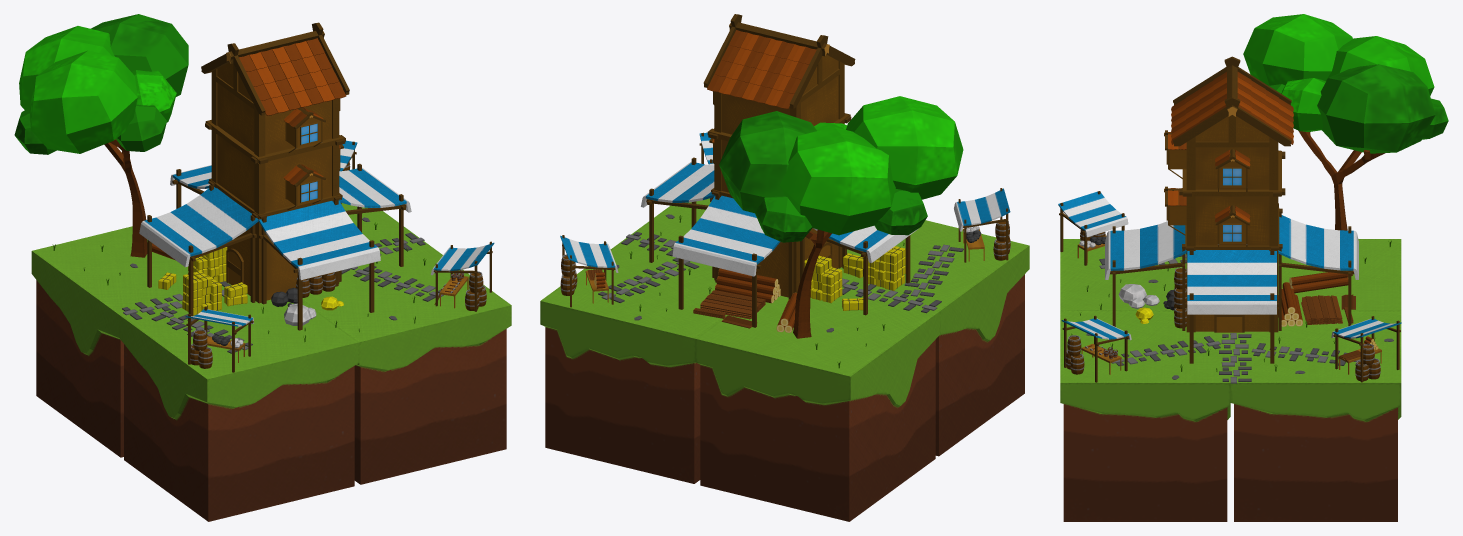
The model's file is Concepts_23.fbx.
3 views of the same model, side by side, from view 1: azimuth 30°, elevation 25°; view 2: azimuth 150°, elevation 25°; view 3: azimuth 270°, elevation 25° (orthographic). The views are drawn at different scales.
Visible parts, largest first — view 1: Cube.202, Cube.001, Cube.186, Cube.201, Cube.204, Cube.200, Cube.187, Cube.188, Cube.190, Cube.203; view 2: Cube.204, Cube.203, Cube.201, Cube.001, Cube.202, Cube.187, Cube.200, Cube.190, Cube.189, Cube.186, Cube.198, Cube.195; view 3: Cube.001, Cube.186, Cube.203, Cube.201, Cube.202, Cube.204, Cube.187, Cube.190, Cube.188, Cube.189, Cube.195, Cube.199 (+2 smaller).
Boxes of the visible parts, x1=… form: Cube.202: x1=119, y1=289, x2=359, y2=521; Cube.001: x1=139, y1=22, x2=411, y2=330; Cube.186: x1=302, y1=241, x2=511, y2=484; Cube.201: x1=14, y1=14, x2=188, y2=257; Cube.204: x1=31, y1=226, x2=231, y2=457; Cube.200: x1=158, y1=247, x2=247, y2=315; Cube.187: x1=122, y1=232, x2=443, y2=353; Cube.188: x1=430, y1=241, x2=494, y2=311; Cube.190: x1=185, y1=306, x2=253, y2=372; Cube.203: x1=341, y1=203, x2=419, y2=251; Cube.204: x1=695, y1=287, x2=939, y2=521; Cube.203: x1=540, y1=238, x2=727, y2=483; Cube.201: x1=719, y1=96, x2=963, y2=338; Cube.001: x1=641, y1=14, x2=918, y2=327; Cube.202: x1=838, y1=220, x2=1029, y2=456; Cube.187: x1=598, y1=232, x2=963, y2=313; Cube.200: x1=804, y1=246, x2=905, y2=310; Cube.190: x1=954, y1=188, x2=1010, y2=262; Cube.189: x1=560, y1=235, x2=618, y2=307; Cube.186: x1=631, y1=198, x2=710, y2=245; Cube.198: x1=715, y1=268, x2=780, y2=303; Cube.195: x1=700, y1=290, x2=765, y2=319; Cube.001: x1=1105, y1=56, x2=1358, y2=363; Cube.186: x1=1060, y1=311, x2=1230, y2=521; Cube.203: x1=1230, y1=311, x2=1401, y2=521; Cube.201: x1=1243, y1=14, x2=1448, y2=277; Cube.202: x1=1060, y1=239, x2=1186, y2=310; Cube.204: x1=1278, y1=239, x2=1401, y2=310; Cube.187: x1=1099, y1=253, x2=1360, y2=383; Cube.190: x1=1058, y1=191, x2=1128, y2=265; Cube.188: x1=1061, y1=315, x2=1131, y2=382; Cube.189: x1=1331, y1=316, x2=1401, y2=382; Cube.195: x1=1301, y1=295, x2=1342, y2=324; Cube.199: x1=1289, y1=272, x2=1348, y2=293.
Bounding box in the file's own units: 709 × 733 × 689.
